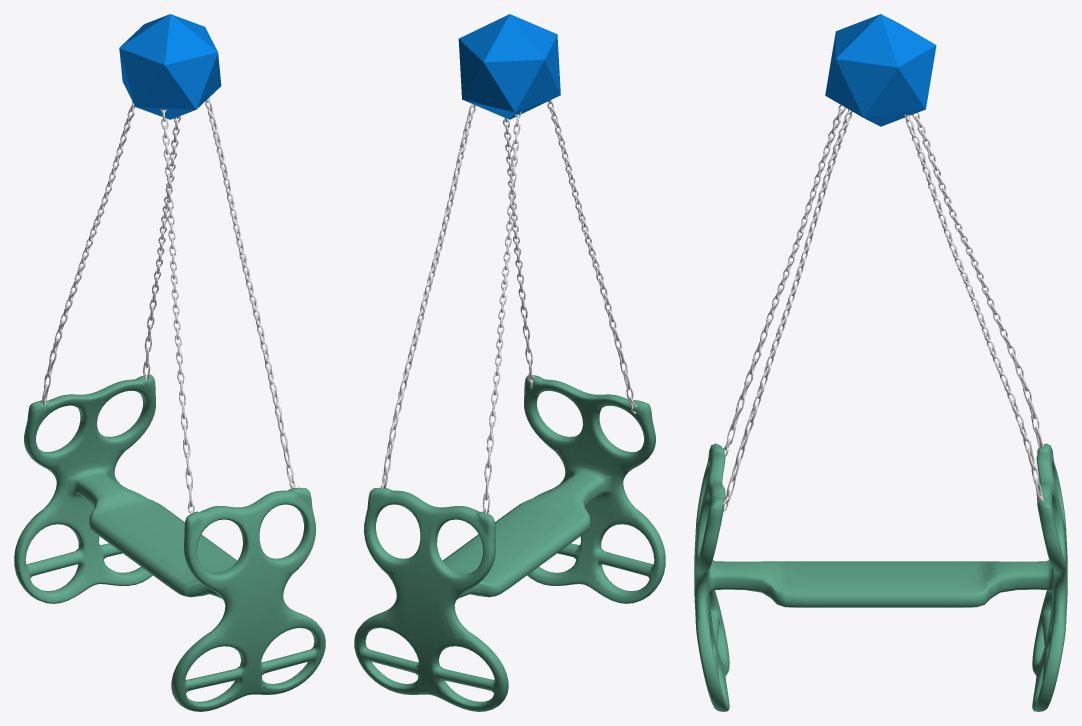
Rendered from Horse glider 8ft.glb.
3 renders of one model, left to right at view 1: azimuth 30°, elevation 25°; view 2: azimuth 150°, elevation 25°; view 3: azimuth 270°, elevation 25°, orthographic. The views are drawn at different scales.
Visible parts, largest first — view 1: Circle.004, Joint.039, Torus.005; view 2: Circle.004, Joint.039, Torus.005; view 3: Circle.004, Joint.039, Torus.005.
Part boxes in pixels (box(x1,y1,x2,y2)): Circle.004: box(14, 374, 325, 711); Joint.039: box(119, 14, 221, 119); Torus.005: box(40, 97, 296, 513); Circle.004: box(354, 375, 665, 711); Joint.039: box(458, 14, 560, 119); Torus.005: box(380, 100, 636, 513); Circle.004: box(694, 443, 1067, 711); Joint.039: box(825, 14, 936, 126); Torus.005: box(723, 104, 1043, 510).
Size of the model in its own units: 0.4543 by 1.82 by 0.9142.
